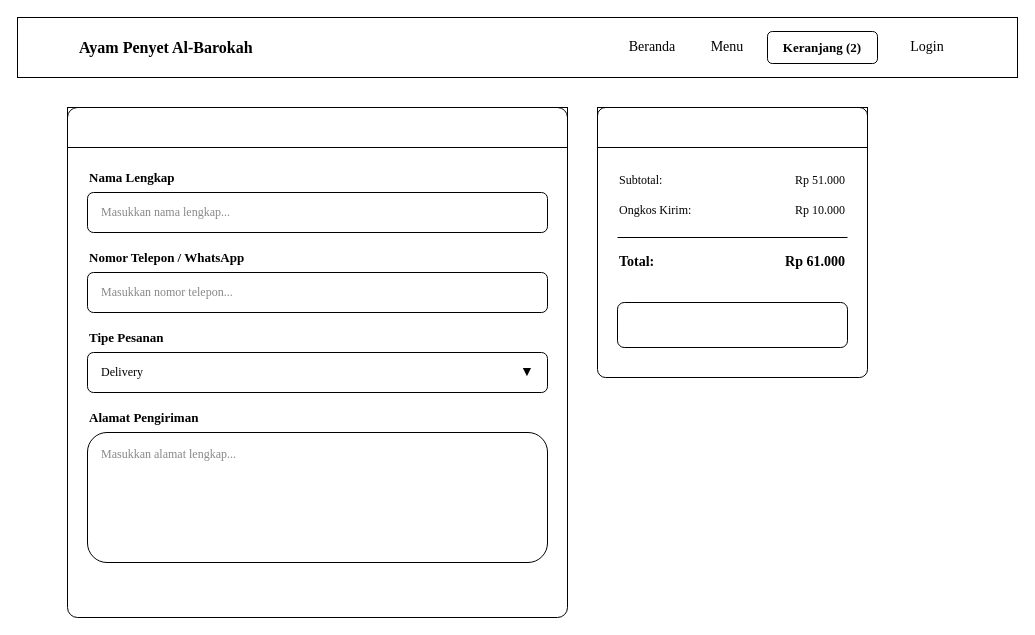
This 1035x635 diagram has some shape labels left out. The shapes that lost their labels are listed below. From the top down, each one's box as (x1, y1, x2, y2) in pixels, then its label:
(66, 106, 568, 148): Formulir Checkout Pesanan
(596, 106, 868, 148): Ringkasan Pesanan
(616, 302, 848, 348): Buat Pesanan
